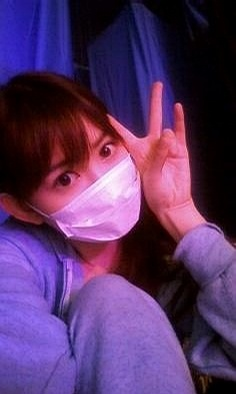face_mask: (47, 115, 143, 243)
